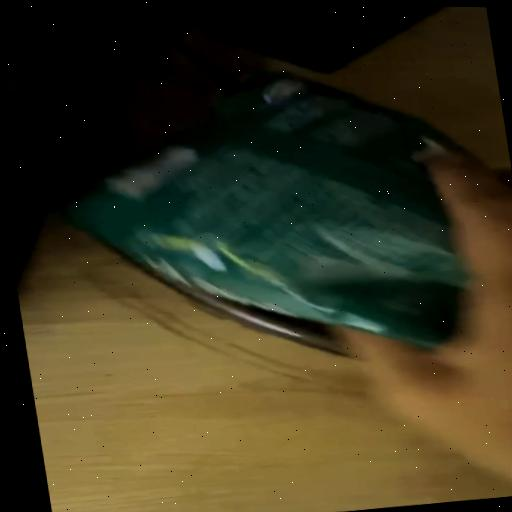cafe_xay: (68, 75, 467, 347)
